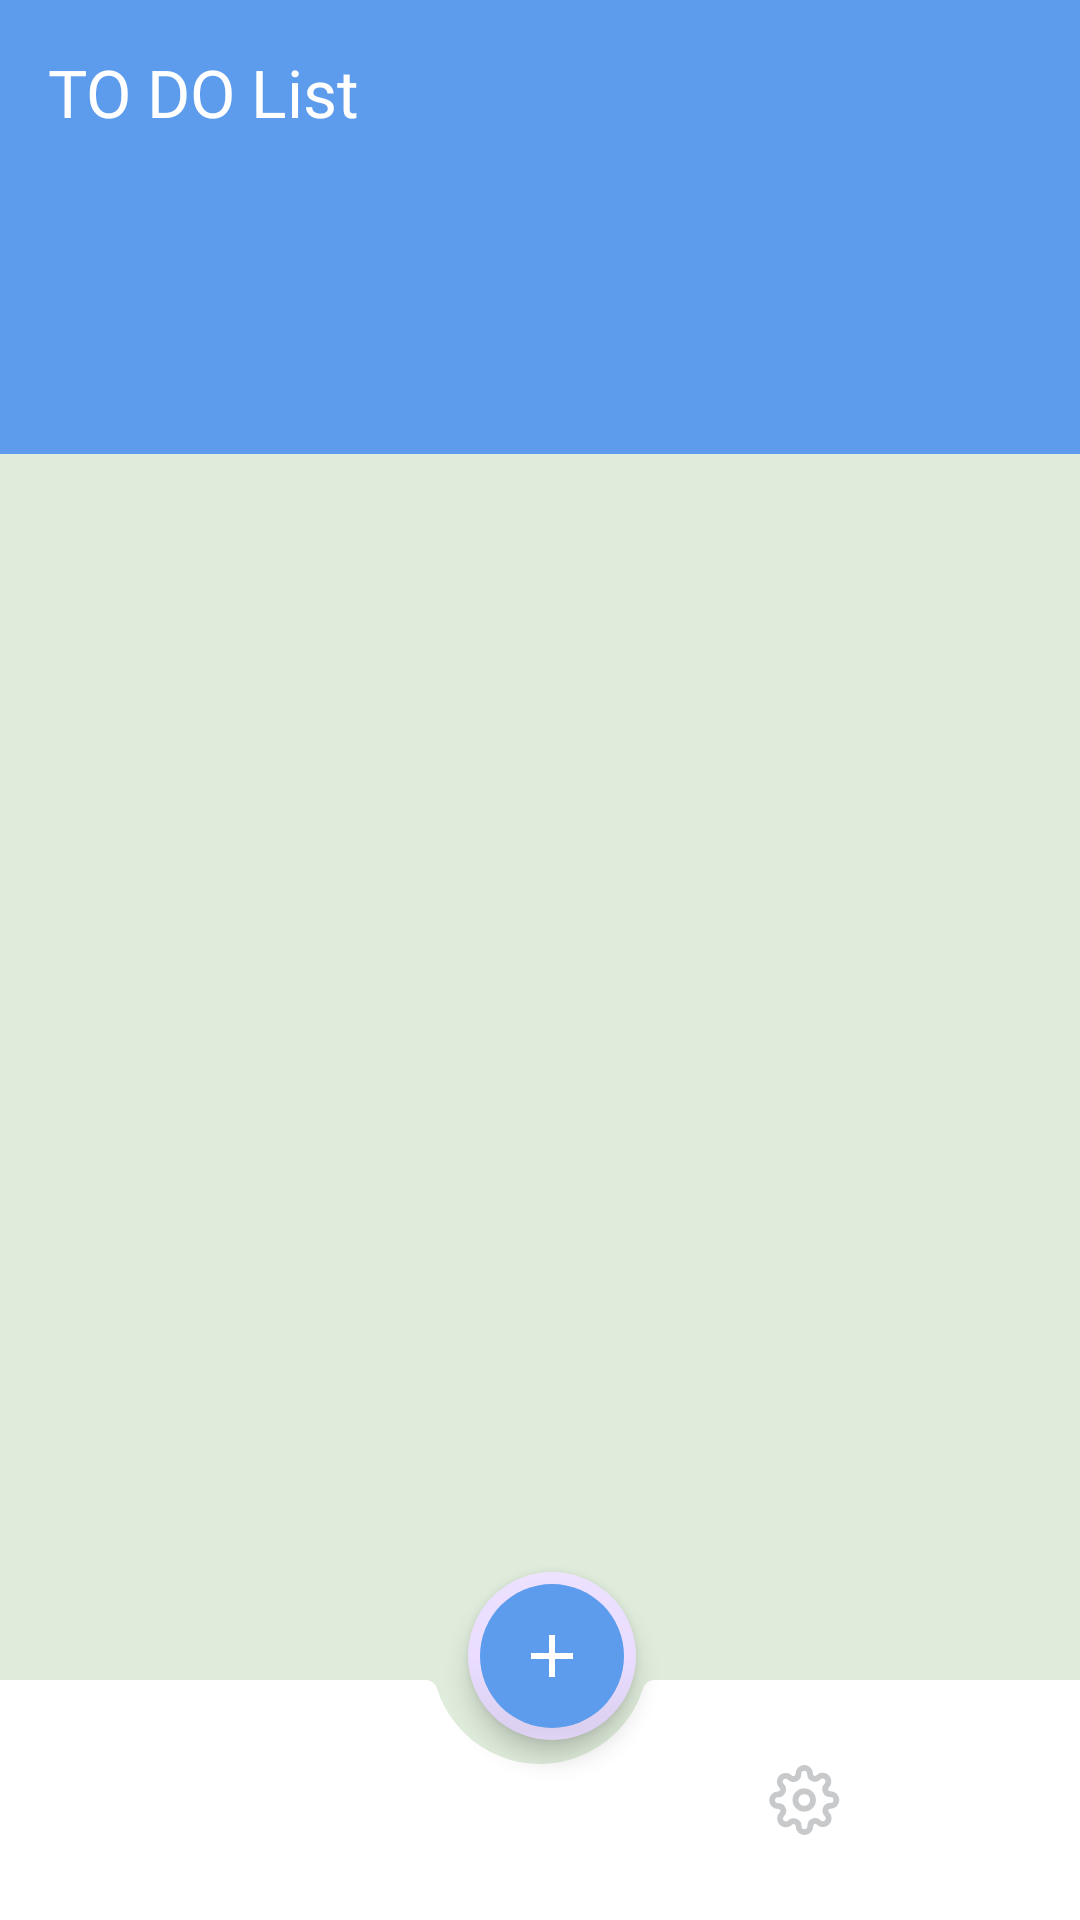

Icons on this 1080*1920 Android screen, each with the point to tap as (x=x, y=y):
add: (x=552, y=1680)
